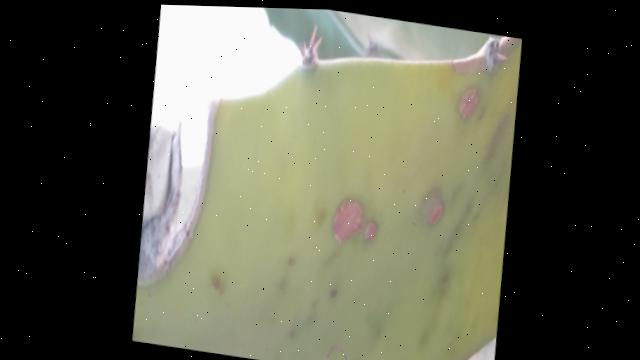stemcanker: (328, 192, 380, 248), (455, 84, 484, 125), (422, 187, 448, 230)
